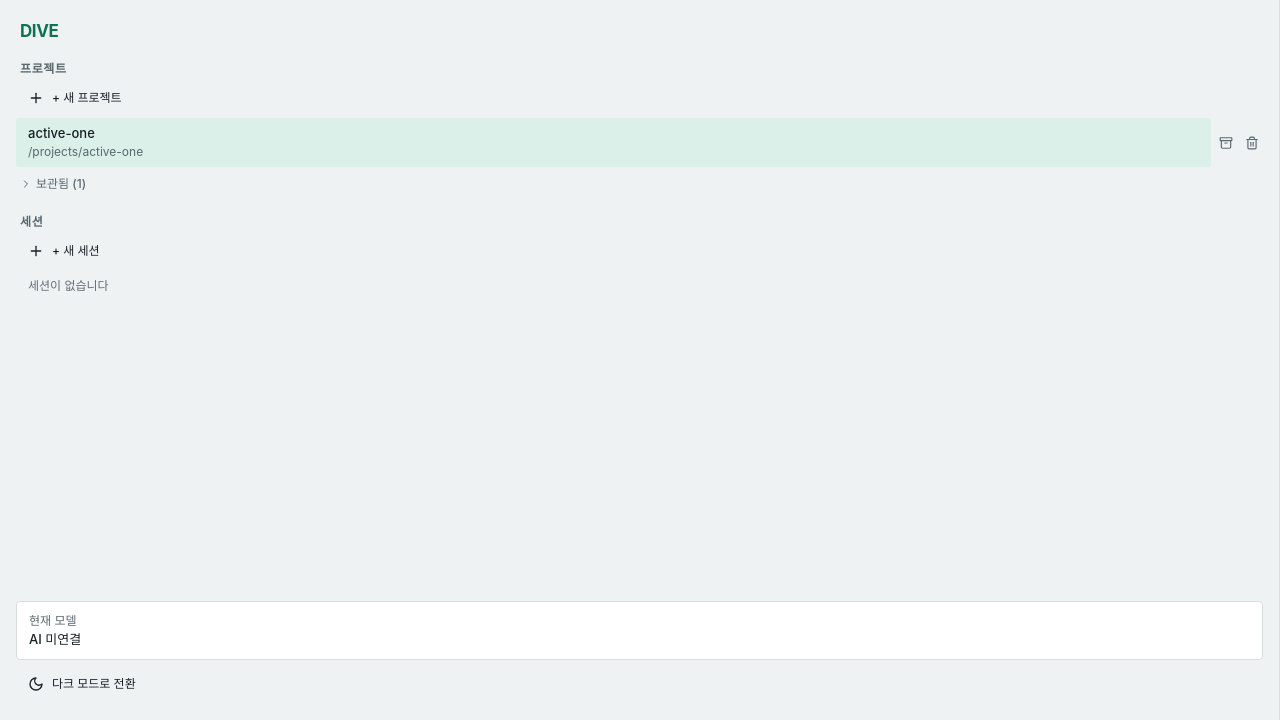
it: Sidebar archived projects section (S-056 D4) › renders the archived section collapsed by default and expands on toggle
Click the button with test id "archived-projects-toggle" at [61, 184], box [16,171,1263,197]
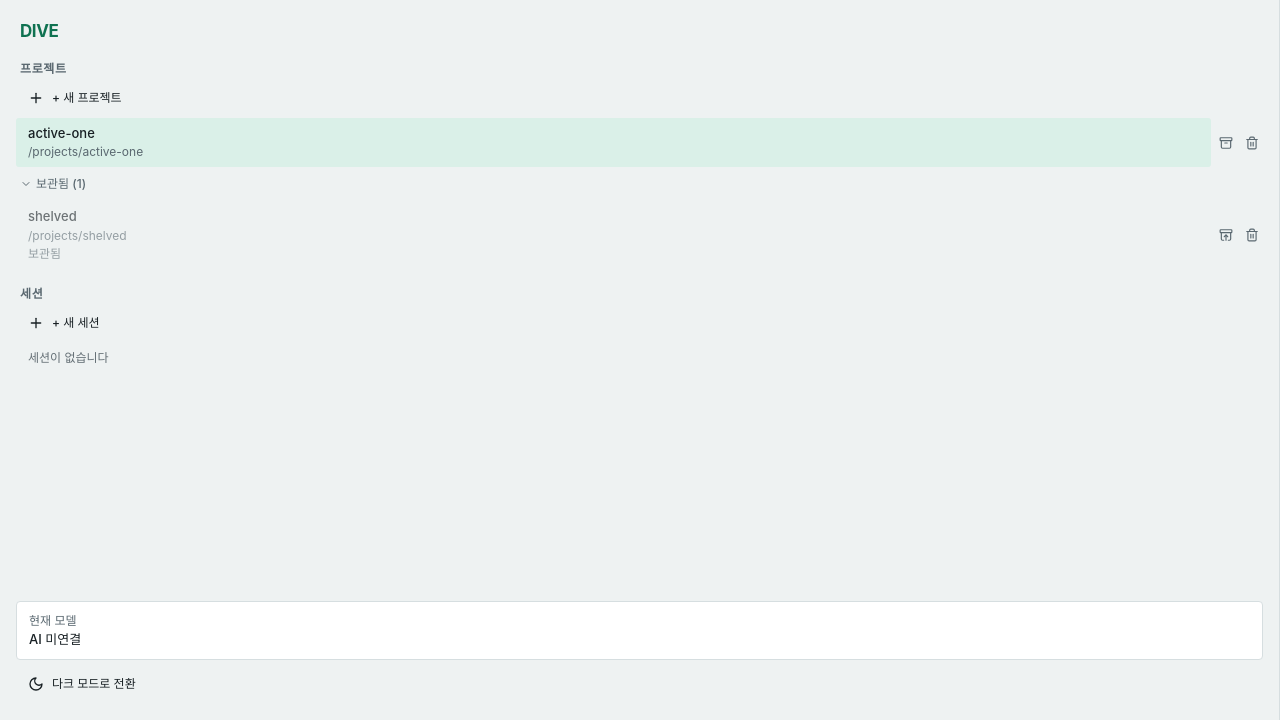
Now the number of buttons with test id "archived-project-item" is 1, box [16,201,1211,269]
Now the button with test id "archived-project-item" shows "shelved", box [16,201,1211,269]
